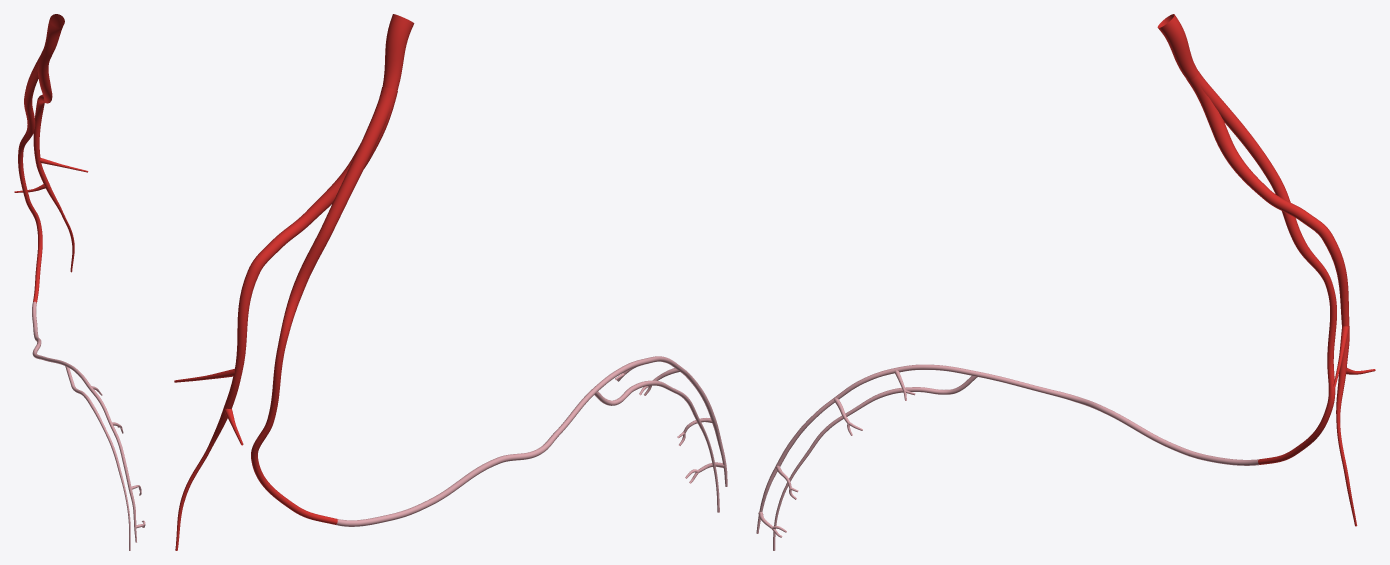
The model's file is circulatorio-anterior-division-of-internal-iliac-artery-l.glb.
3 views of the same model, side by side, from view 1: azimuth 30°, elevation 25°; view 2: azimuth 150°, elevation 25°; view 3: azimuth 270°, elevation 25° (orthographic). The views are drawn at different scales.
Visible parts, largest first — view 1: Inferior gluteal artery.l, Internal pudendal artery.l, Dorsal artery of penis.l, Deep artery of penis.l, Anterior division of internal iliac artery.l; view 2: Internal pudendal artery.l, Inferior gluteal artery.l, Dorsal artery of penis.l, Anterior division of internal iliac artery.l, Deep artery of penis.l; view 3: Inferior gluteal artery.l, Dorsal artery of penis.l, Internal pudendal artery.l, Deep artery of penis.l, Anterior division of internal iliac artery.l.
Part boxes in pixels (left/top/right/bottom): Inferior gluteal artery.l: left=14, top=51, right=88, bottom=272; Internal pudendal artery.l: left=18, top=51, right=47, bottom=302; Dorsal artery of penis.l: left=32, top=301, right=145, bottom=542; Deep artery of penis.l: left=65, top=365, right=130, bottom=550; Anterior division of internal iliac artery.l: left=42, top=14, right=64, bottom=57; Internal pudendal artery.l: left=251, top=90, right=390, bottom=524; Inferior gluteal artery.l: left=174, top=87, right=397, bottom=550; Dorsal artery of penis.l: left=336, top=356, right=727, bottom=526; Anterior division of internal iliac artery.l: left=382, top=14, right=414, bottom=90; Deep artery of penis.l: left=594, top=380, right=719, bottom=512; Inferior gluteal artery.l: left=1186, top=71, right=1375, bottom=526; Dorsal artery of penis.l: left=756, top=364, right=1259, bottom=537; Internal pudendal artery.l: left=1187, top=72, right=1336, bottom=464; Deep artery of penis.l: left=773, top=376, right=977, bottom=550; Anterior division of internal iliac artery.l: left=1157, top=14, right=1198, bottom=80.
Bounding box in the file's own units: 0.0679 × 0.1694 × 0.1634.
